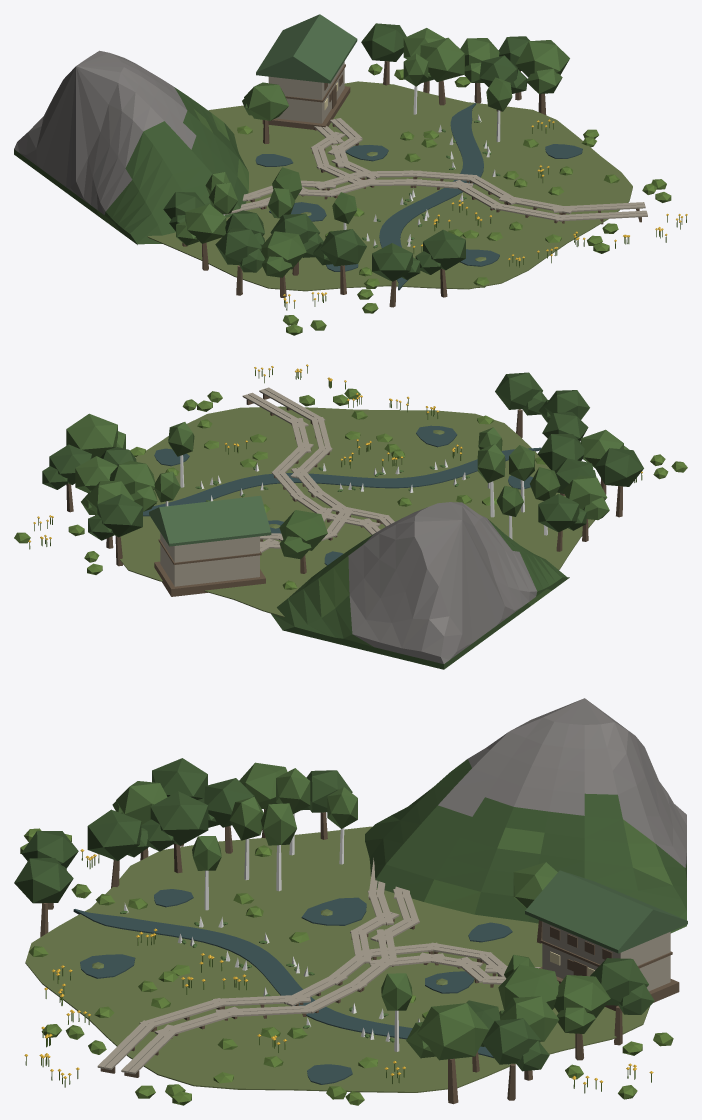
The model's file is oze.glb.
3 views of the same model, one above another, from view 1: azimuth 30°, elevation 25°; view 2: azimuth 150°, elevation 25°; view 3: azimuth 270°, elevation 25° (orthographic). The views are drawn at different scales.
Parts seen in each view (by area): view 1: oze_terrain, oze_leafd, oze_rock, oze_leaf, oze_plank, oze_water, oze_grassd, oze_roof, oze_post, oze_white; view 2: oze_terrain, oze_rock, oze_leafd, oze_leaf, oze_plank, oze_water, oze_roof, oze_grassd, oze_post, oze_white, oze_yellow; view 3: oze_terrain, oze_leafd, oze_leaf, oze_rock, oze_plank, oze_water, oze_grassd, oze_roof, oze_post, oze_white, oze_yellow.
Part boxes in pixels (left/top/right/bottom): oze_terrain: left=147, top=81, right=632, bottom=291; oze_leafd: left=14, top=23, right=529, bottom=281; oze_rock: left=14, top=50, right=196, bottom=214; oze_leaf: left=96, top=28, right=569, bottom=277; oze_plank: left=224, top=61, right=647, bottom=221; oze_water: left=255, top=103, right=582, bottom=290; oze_grassd: left=237, top=63, right=686, bottom=335; oze_roof: left=256, top=14, right=357, bottom=83; oze_post: left=182, top=61, right=641, bottom=307; oze_white: left=221, top=86, right=500, bottom=246; oze_terrain: left=120, top=406, right=594, bottom=617; oze_rock: left=348, top=502, right=537, bottom=663; oze_leafd: left=42, top=372, right=643, bottom=669; oze_leaf: left=66, top=413, right=629, bottom=617; oze_plank: left=160, top=387, right=394, bottom=586; oze_water: left=143, top=425, right=541, bottom=565; oze_roof: left=149, top=495, right=271, bottom=546; oze_grassd: left=14, top=366, right=687, bottom=589; oze_post: left=66, top=394, right=622, bottom=596; oze_white: left=165, top=455, right=547, bottom=539; oze_yellow: left=28, top=364, right=642, bottom=542; oze_terrain: left=25, top=826, right=649, bottom=1092; oze_leafd: left=14, top=758, right=686, bottom=1071; oze_leaf: left=112, top=762, right=672, bottom=1060; oze_rock: left=438, top=698, right=686, bottom=867; oze_plank: left=97, top=858, right=670, bottom=1074; oze_water: left=73, top=889, right=512, bottom=1084; oze_grassd: left=20, top=828, right=673, bottom=1105; oze_roof: left=525, top=870, right=687, bottom=953; oze_post: left=40, top=809, right=679, bottom=1104; oze_white: left=124, top=813, right=419, bottom=1051; oze_yellow: left=24, top=849, right=653, bottom=1084.
Bounding box in the file's own units: 22.1 × 5.23 × 21.94.
